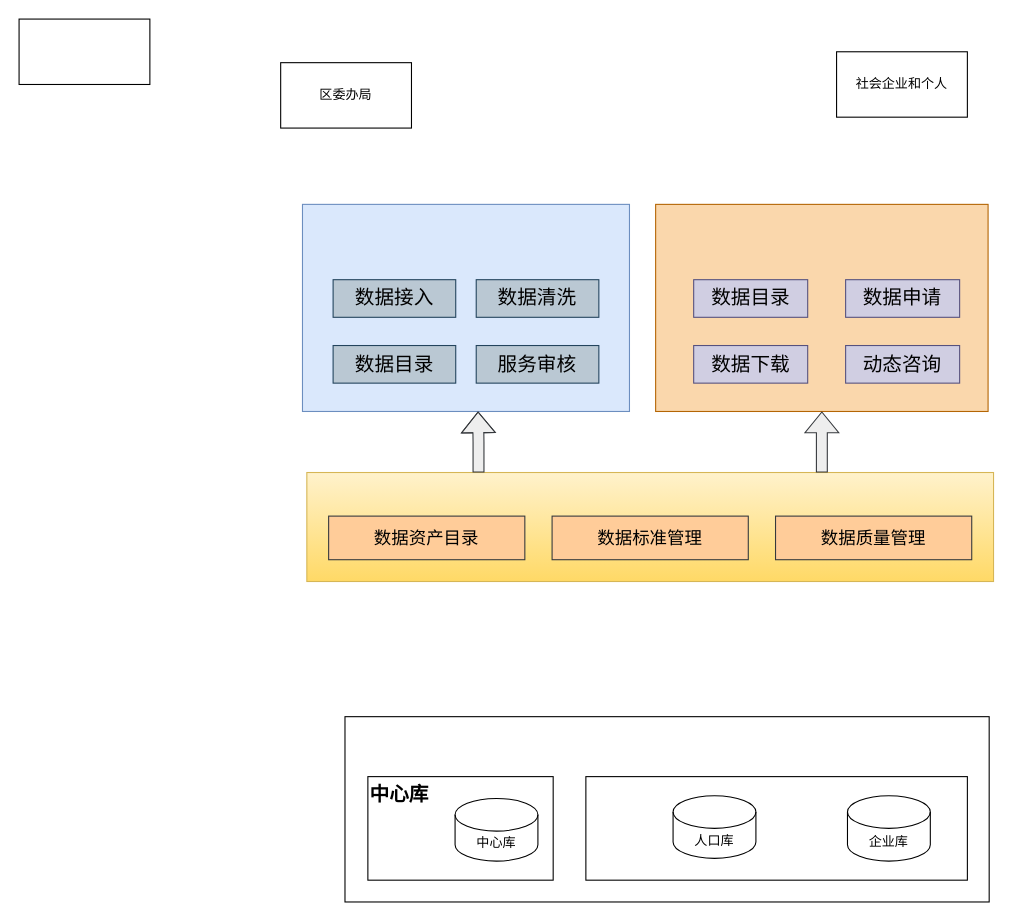
Some shapes in this 1013 by 921 pixel diagram are drawn without their labels. Here are the shapes that lost their labels. From the top down, the box of each, then its label:
(301, 203, 629, 411): 一体化大数据平台
(655, 203, 988, 411): 数据开放门户
(306, 471, 994, 582): 数据管理系统
(344, 716, 989, 902): 数据存储
(585, 776, 967, 880): 主题库
